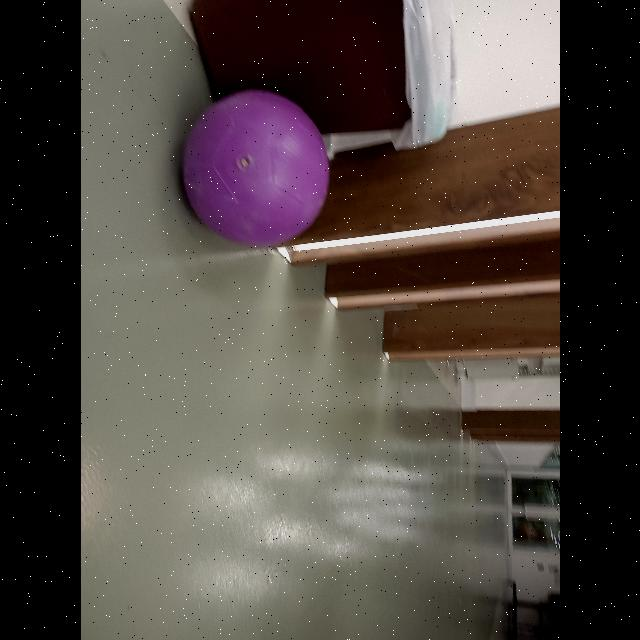P: (182, 90, 330, 246)
